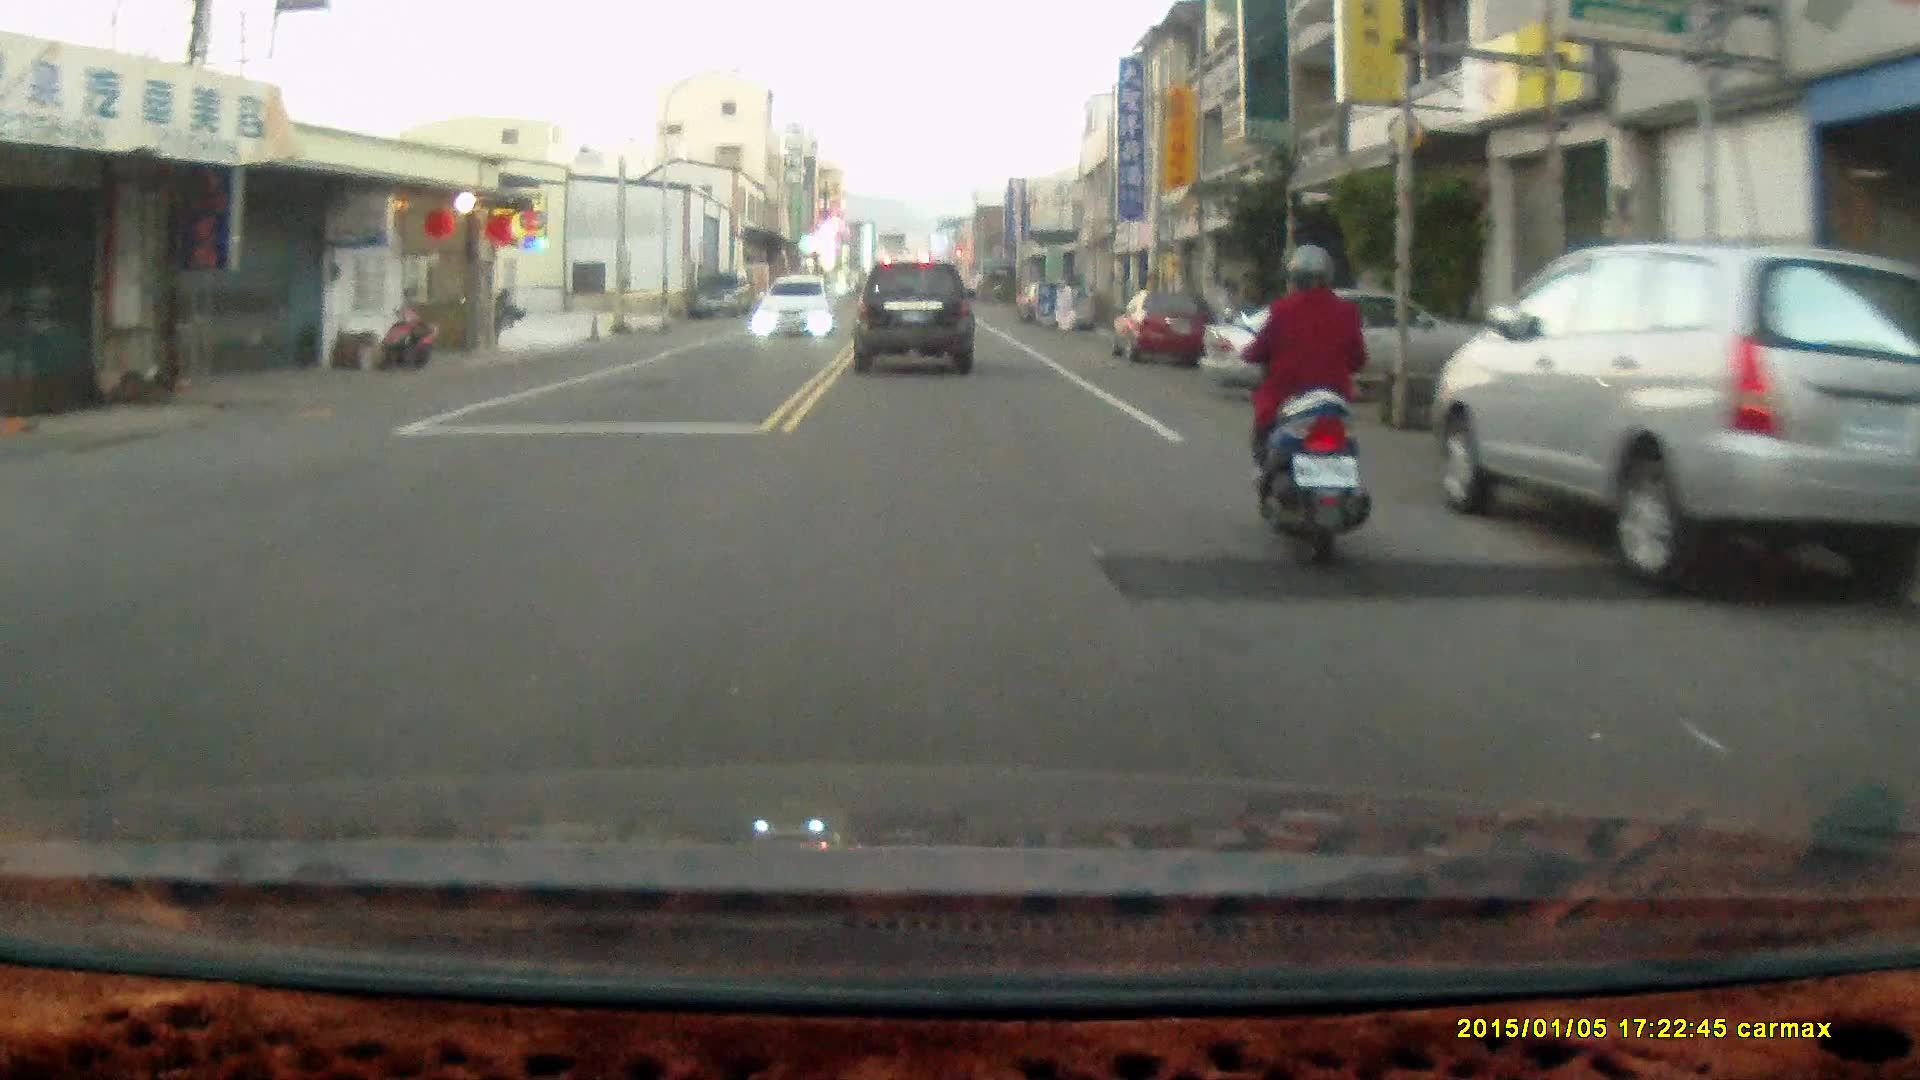rider: (1222, 246, 1375, 565)
vehicle: (1432, 245, 1920, 610), (1203, 293, 1472, 410), (853, 258, 981, 376), (1111, 290, 1220, 365), (755, 276, 838, 339), (694, 274, 754, 321)
